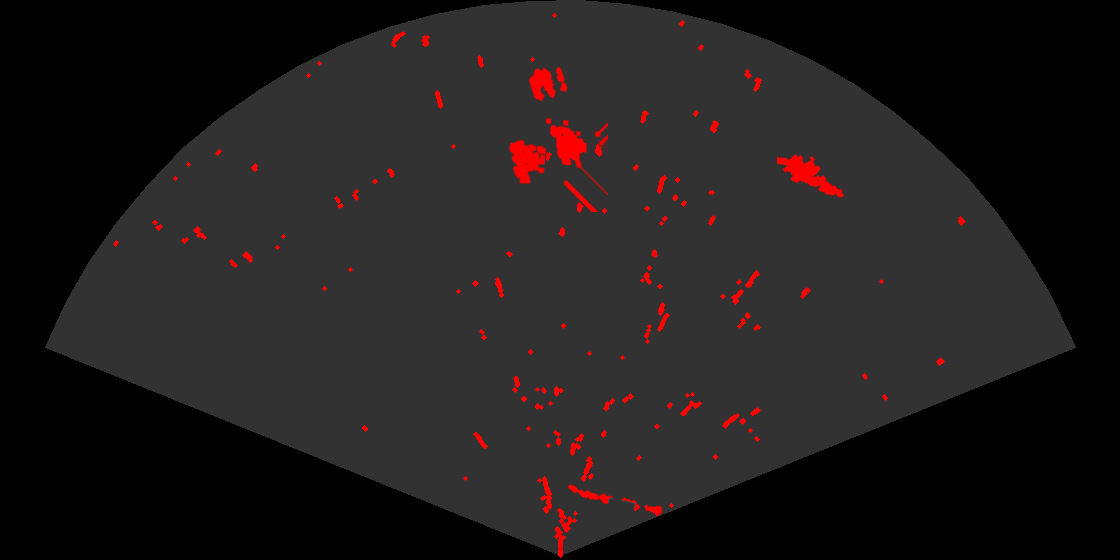ball: (527, 65, 569, 103)
cage: (507, 116, 608, 212)
chain: (566, 483, 665, 518)
frogman: (777, 153, 846, 199)
